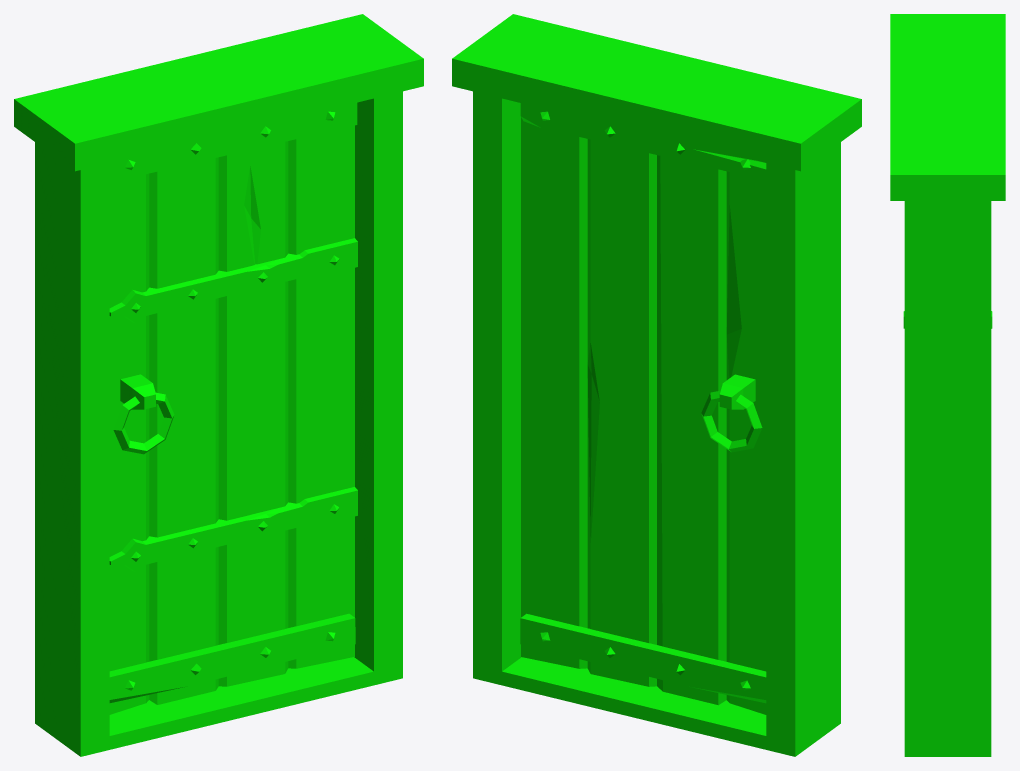
File: SM_Door_Single_C_Regular_Fantasy.fbx
The picture shows the model from 3 angles, left to right: view 1: azimuth 30°, elevation 25°; view 2: azimuth 150°, elevation 25°; view 3: azimuth 270°, elevation 25°; orthographic projection. The views are drawn at different scales.
Parts seen in each view (by area): view 1: door-single-c-regular-fantasy-door, door-single-c-regular-fantasy-frame; view 2: door-single-c-regular-fantasy-door, door-single-c-regular-fantasy-frame; view 3: door-single-c-regular-fantasy-frame.
Part boxes in pixels (box(x1,y1,x2,y2)): door-single-c-regular-fantasy-door: box(109, 102, 357, 714); door-single-c-regular-fantasy-frame: box(14, 14, 423, 756); door-single-c-regular-fantasy-door: box(520, 103, 766, 714); door-single-c-regular-fantasy-frame: box(452, 14, 861, 756); door-single-c-regular-fantasy-frame: box(890, 14, 1005, 756).
Bounding box in the file's own units: 1.32 × 2.25 × 0.4.
